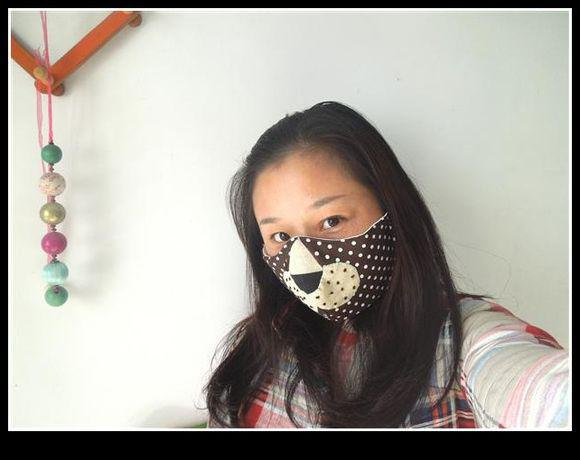OK: (268, 194, 390, 316)
